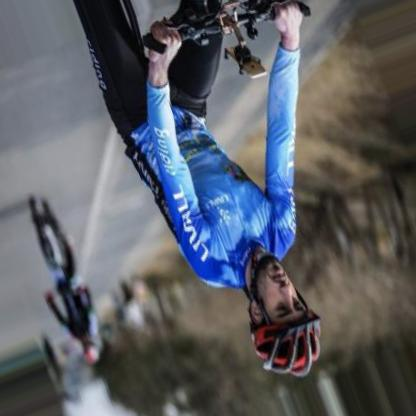with helmet: (246, 254, 321, 378)
